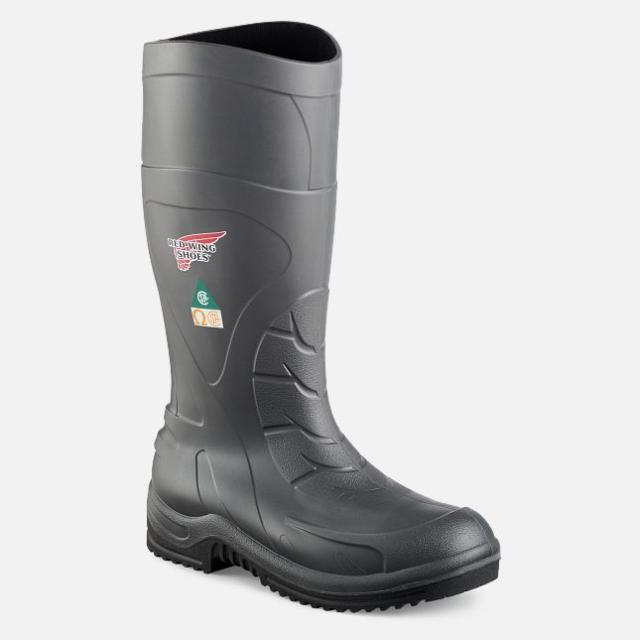shoes: (142, 21, 499, 609)
